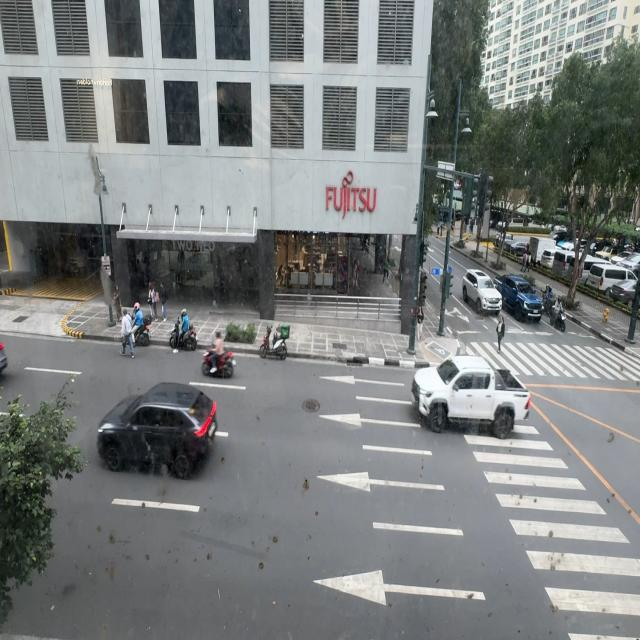crossing: (496, 312, 506, 349)
pedestrain: (148, 282, 159, 322), (114, 285, 122, 321)
waiting: (417, 302, 424, 341)
